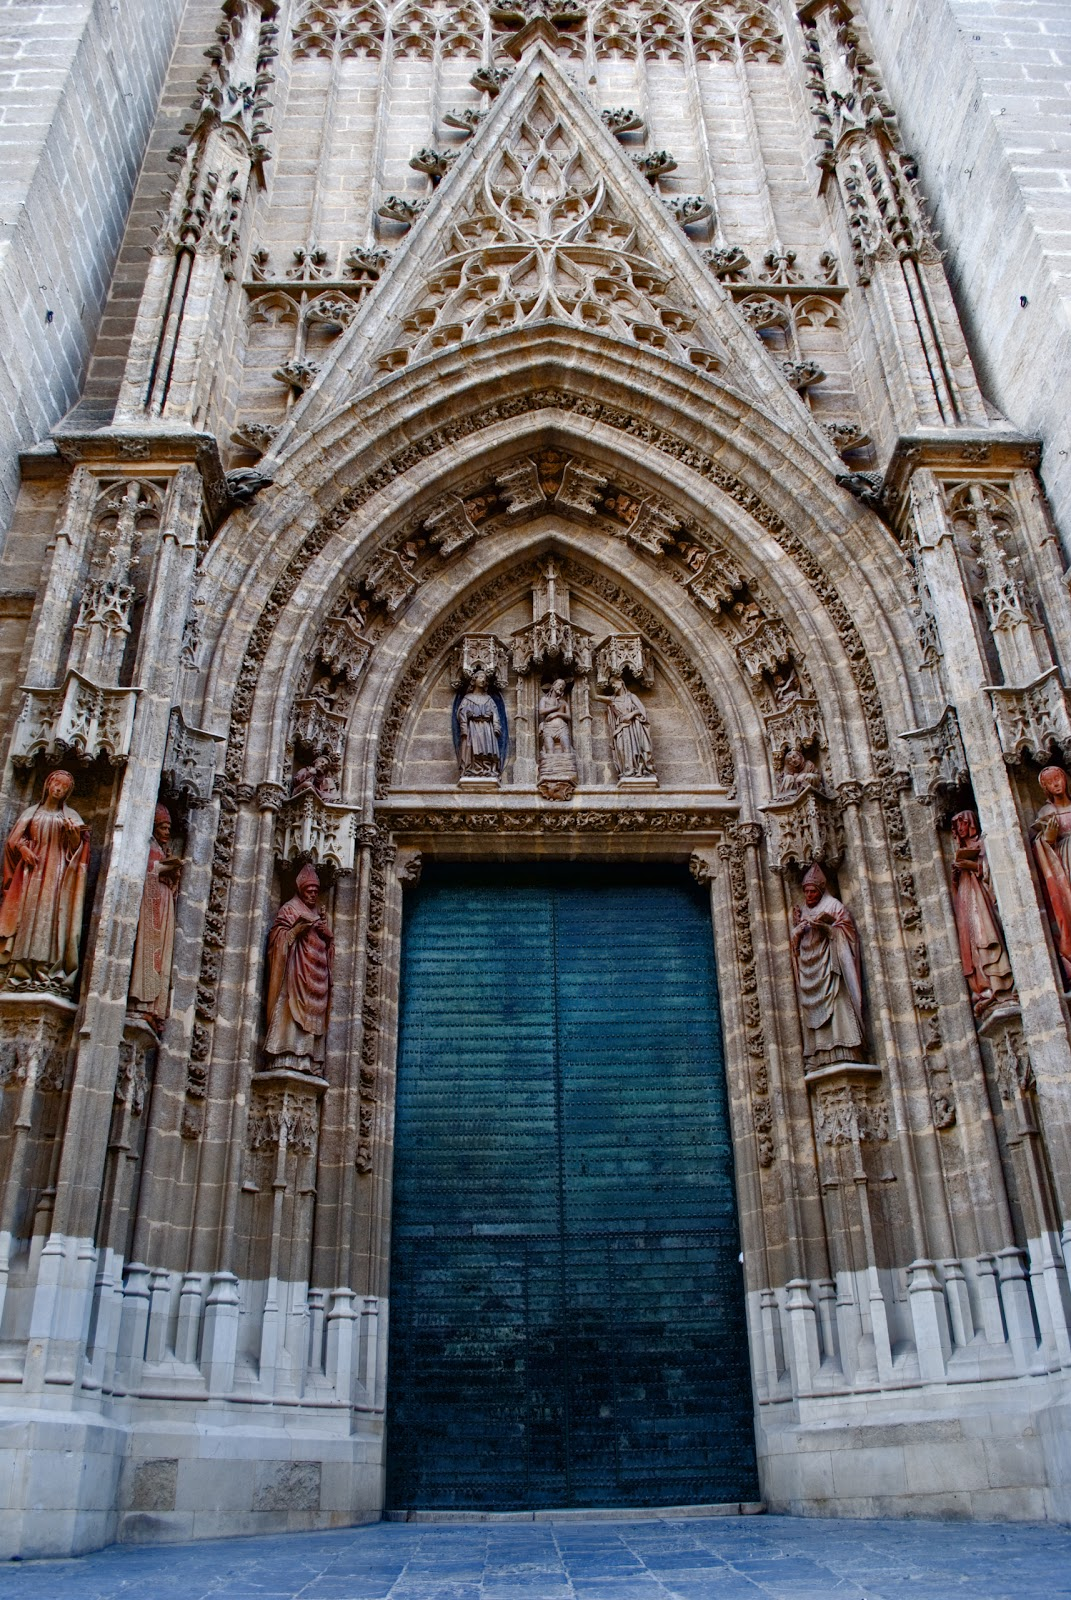arco-apuntado: (246, 305, 882, 776)
